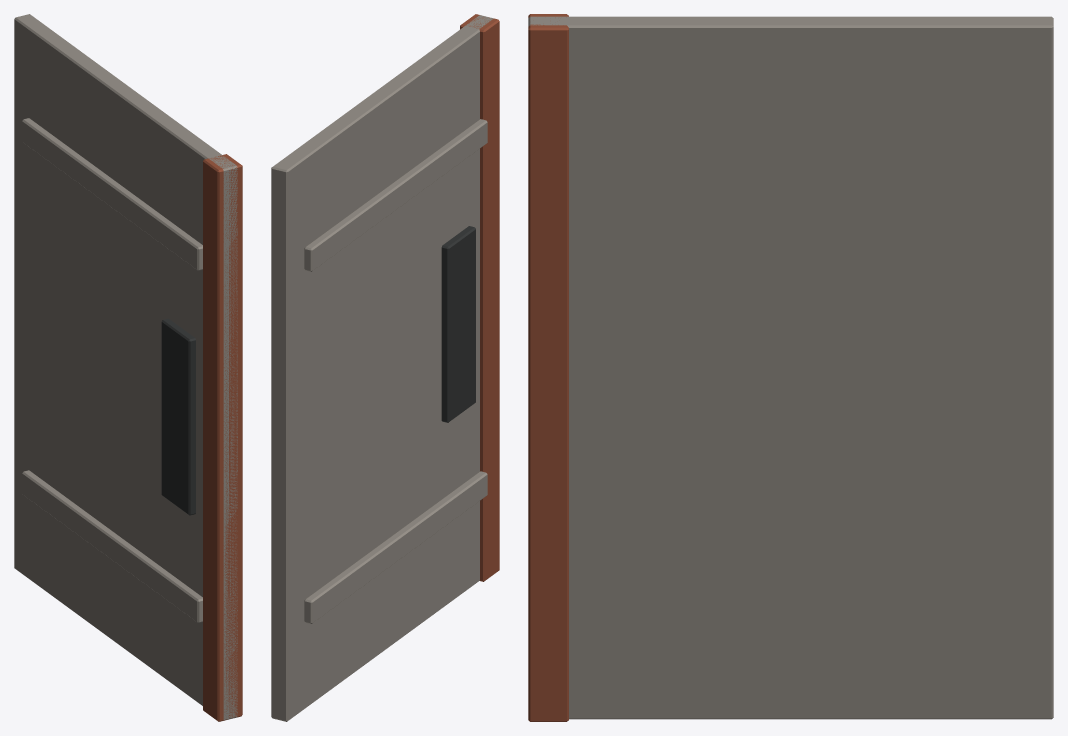
The model's file is folding_crate_left_wall.glb.
3 renders of one model, left to right at view 1: azimuth 30°, elevation 25°; view 2: azimuth 150°, elevation 25°; view 3: azimuth 270°, elevation 25°, orthographic. The views are drawn at different scales.
Parts seen in each view (by area): view 1: folding_crate_left_wall.001; view 2: folding_crate_left_wall.001; view 3: folding_crate_left_wall.001.
Part boxes in pixels (box(x1,y1,x2,y2)): folding_crate_left_wall.001: box(14, 14, 242, 721); folding_crate_left_wall.001: box(271, 14, 499, 721); folding_crate_left_wall.001: box(528, 14, 1053, 721).
Bounding box in the file's own units: 0.021 × 0.376 × 0.258.
